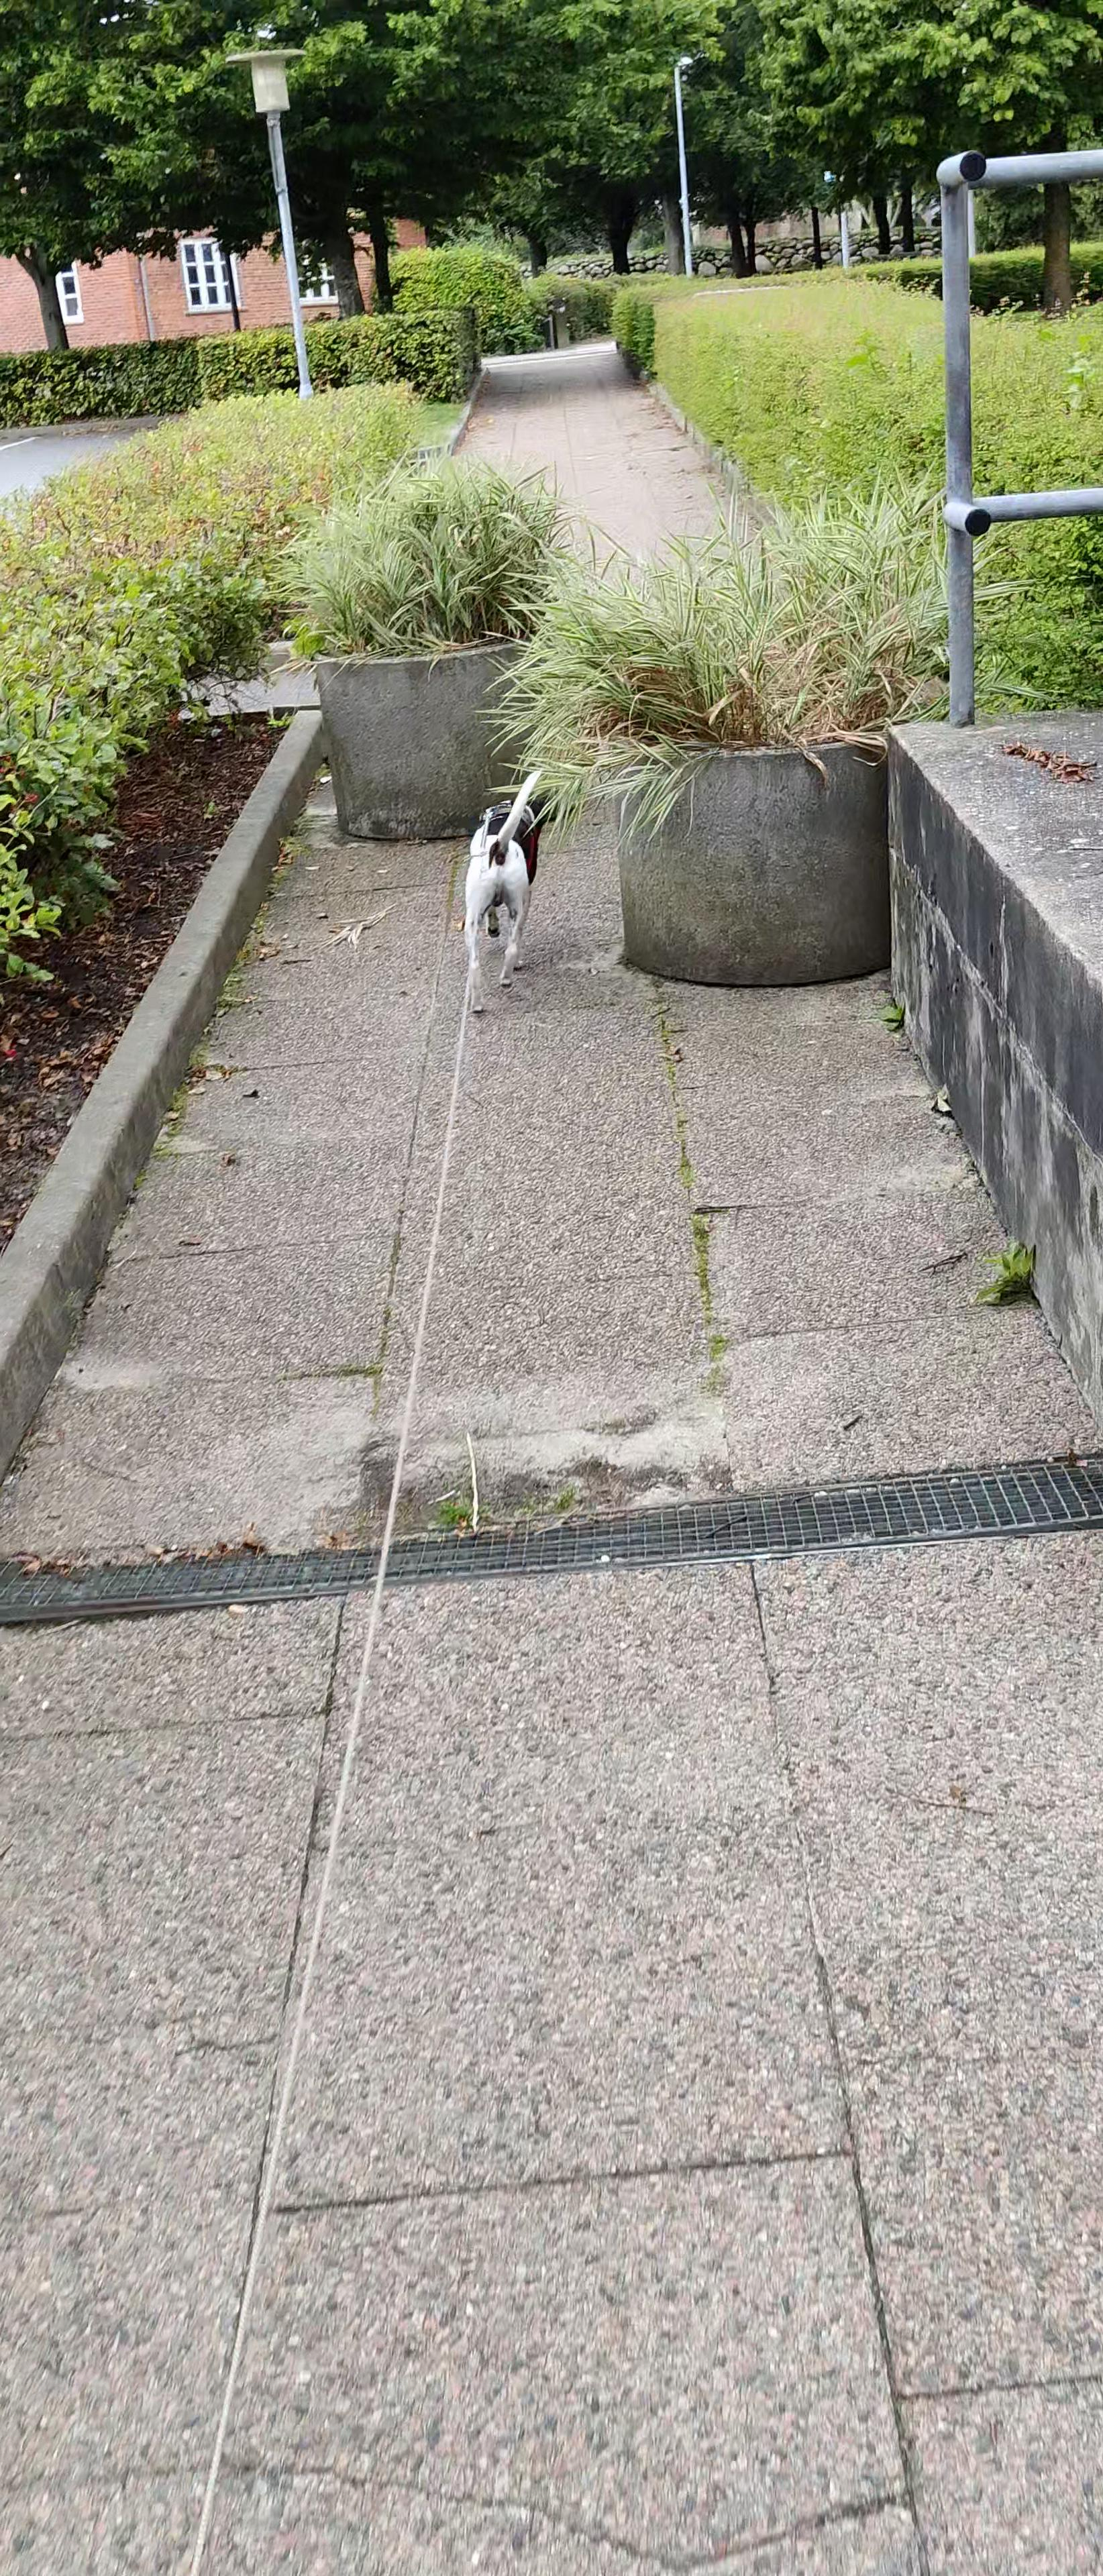Dog: (457, 769, 544, 1022)
